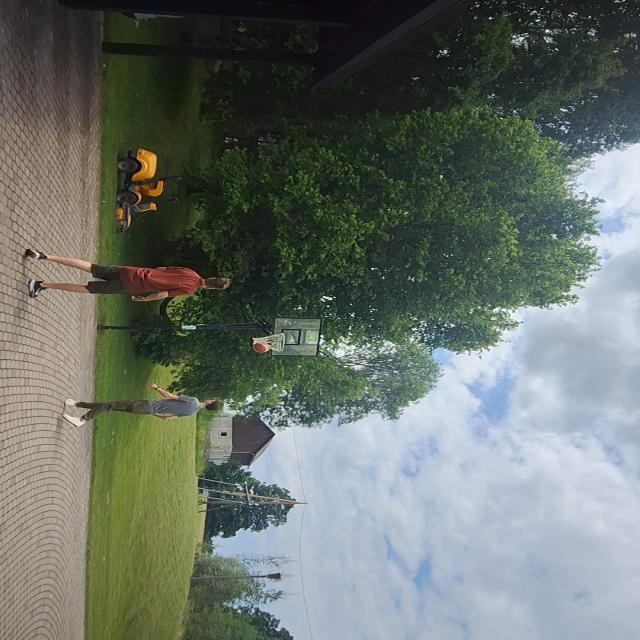ball: (250, 342, 270, 354)
hoop: (253, 333, 287, 353)
player: (25, 245, 237, 304), (61, 382, 225, 427)
